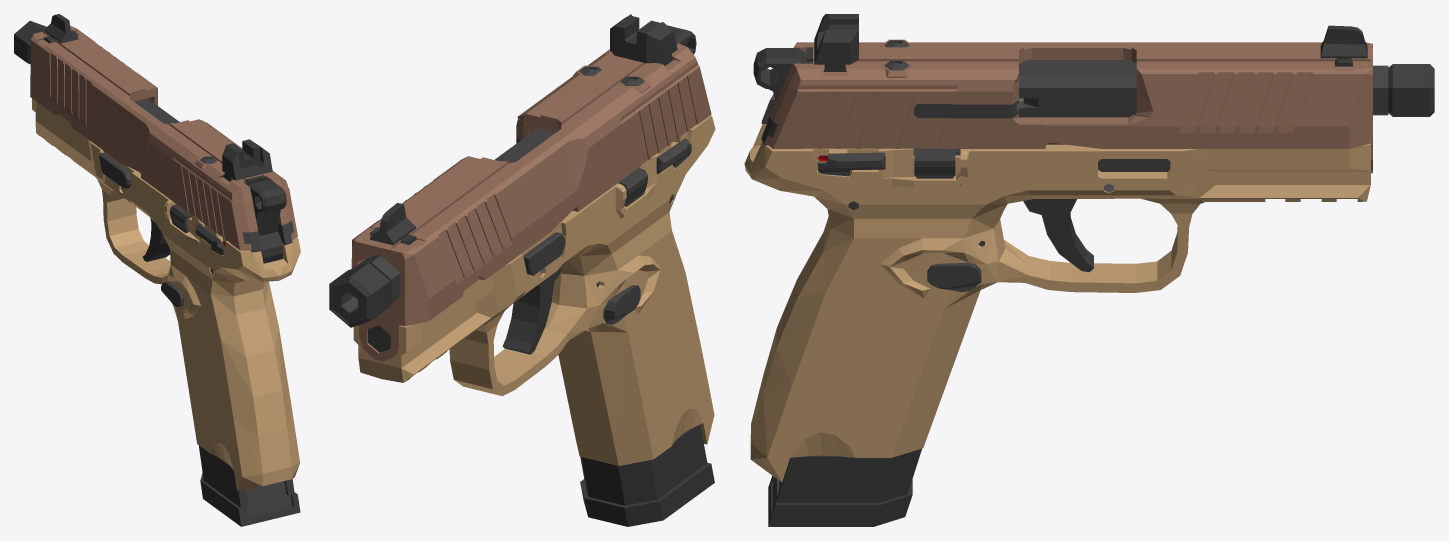
The model's file is pistol__fn_502_tactical_fde-named-nodes.glb.
The picture shows the model from 3 angles, left to right: view 1: azimuth 30°, elevation 25°; view 2: azimuth 150°, elevation 25°; view 3: azimuth 270°, elevation 25°; orthographic projection. The views are drawn at different scales.
Parts seen in each view (by area): view 1: Object_7, Object_9, Object_10, Object_11, Object_4, Object_5; view 2: Object_7, Object_9, Object_10, Object_4, Object_11; view 3: Object_7, Object_9, Object_11, Object_10, Object_4.
Boxes of the visible parts, x1,y1,x2,y2 form: Object_7: [32, 98, 300, 491]; Object_9: [30, 26, 297, 250]; Object_10: [14, 14, 286, 263]; Object_11: [30, 45, 293, 306]; Object_4: [198, 445, 300, 526]; Object_5: [243, 481, 292, 517]; Object_7: [353, 115, 715, 465]; Object_9: [351, 43, 711, 361]; Object_10: [329, 14, 696, 354]; Object_4: [580, 425, 714, 526]; Object_11: [332, 66, 691, 352]; Object_7: [744, 124, 1370, 482]; Object_9: [765, 39, 1372, 173]; Object_11: [761, 40, 1388, 291]; Object_10: [753, 14, 1434, 272]; Object_4: [768, 149, 960, 526].
Size of the model in its own units: 0.9165 by 4.57 by 5.89.
1 material, 1 textured.
